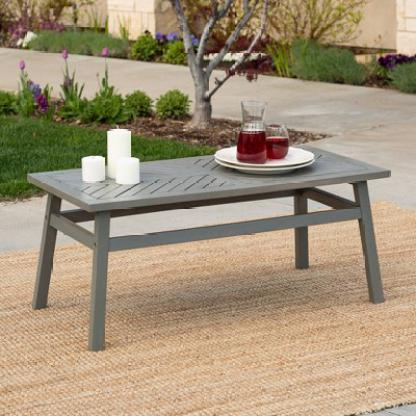table: (22, 141, 396, 354)
